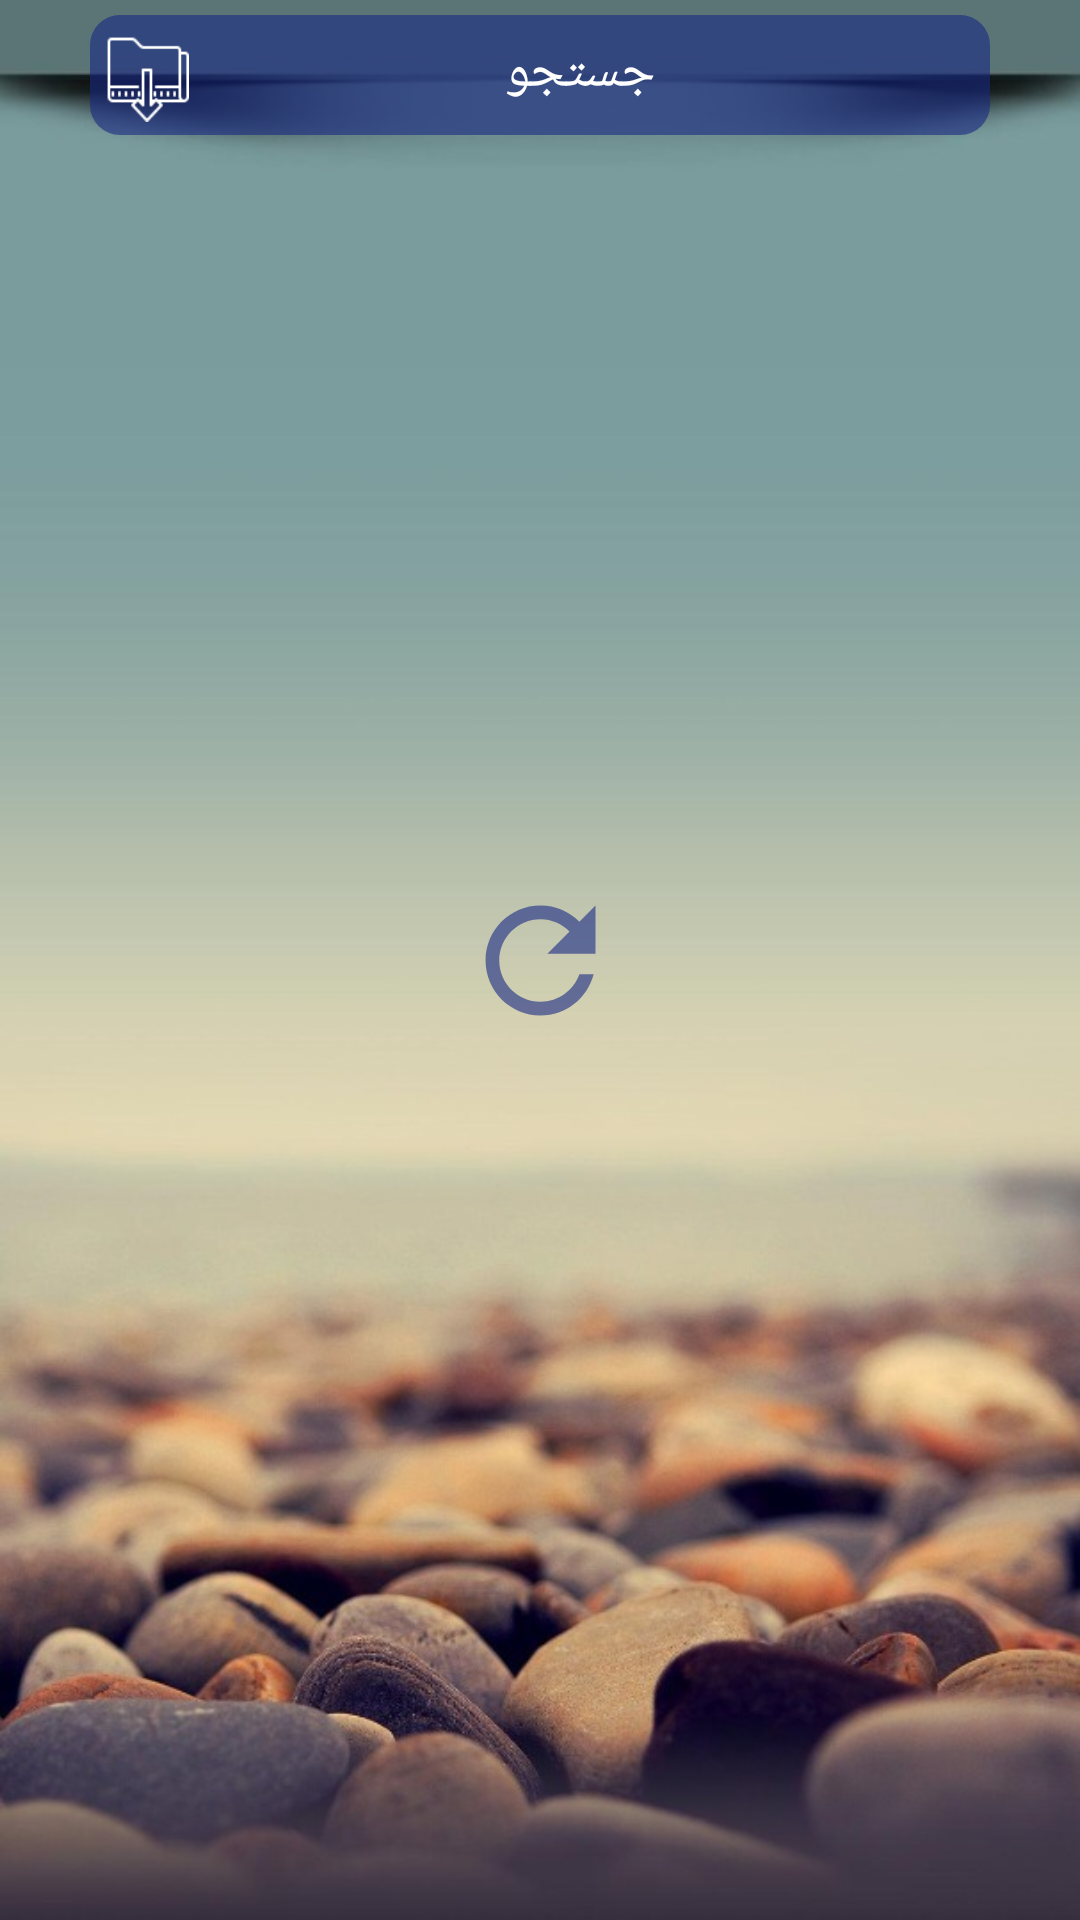

Icons on this 1080 x 1920 Android screen, each with the point to tap as [x,y]:
download: [147,79]
refresh: [540,974]
